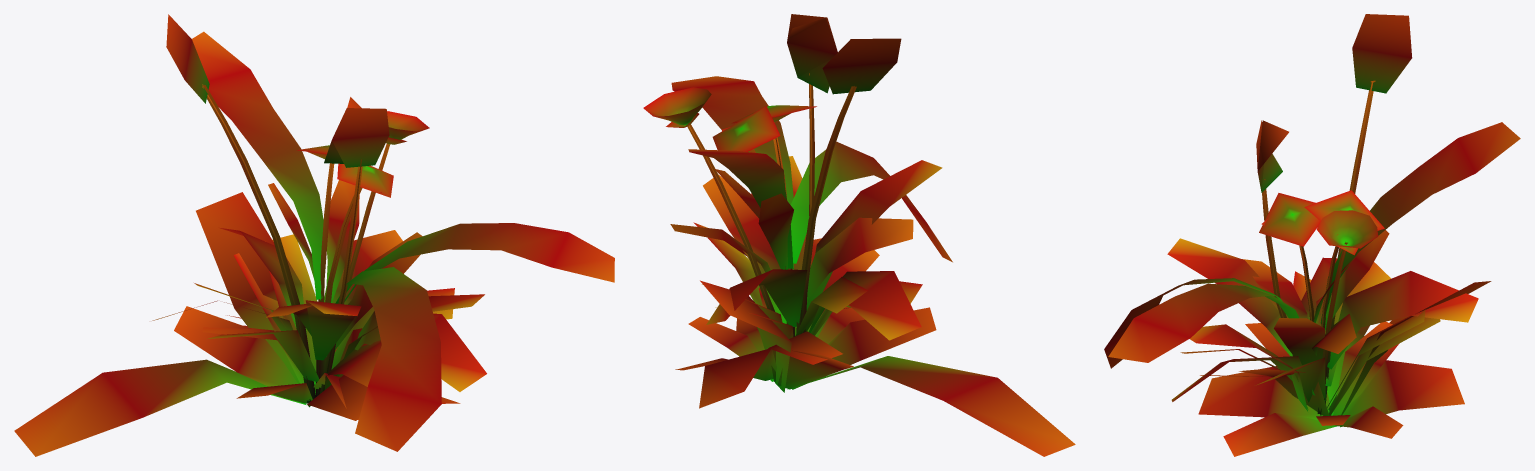
Rendered from Cape Weed_LOD1_Var5_tjmhfcyia.fbx.
3 renders of one model, left to right at view 1: azimuth 30°, elevation 25°; view 2: azimuth 150°, elevation 25°; view 3: azimuth 270°, elevation 25°, orthographic. The views are drawn at different scales.
Visible parts, largest first — view 1: _5953_Var5_LOD1; view 2: _5953_Var5_LOD1; view 3: _5953_Var5_LOD1.
Part boxes in pixels (x1,y1,x2,y2): _5953_Var5_LOD1: [14, 14, 614, 456]; _5953_Var5_LOD1: [643, 14, 1075, 456]; _5953_Var5_LOD1: [1104, 14, 1520, 456].
Size of the model in its own units: 23.74 by 18.22 by 18.88.
